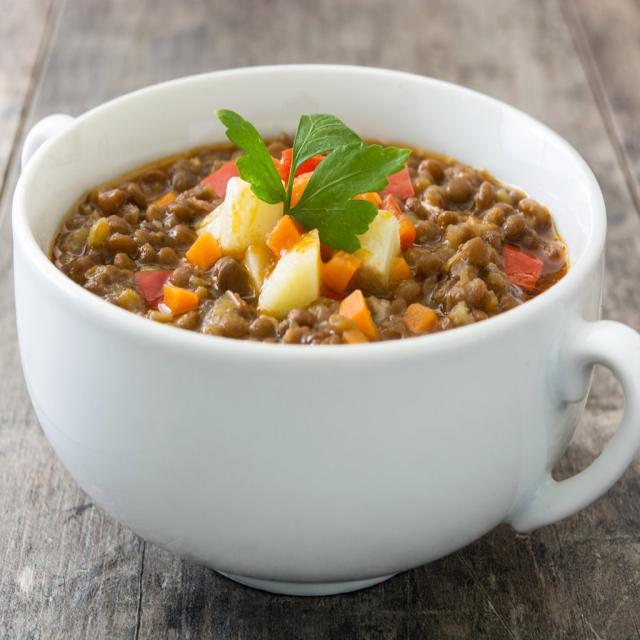lentejas: (54, 115, 572, 348)
